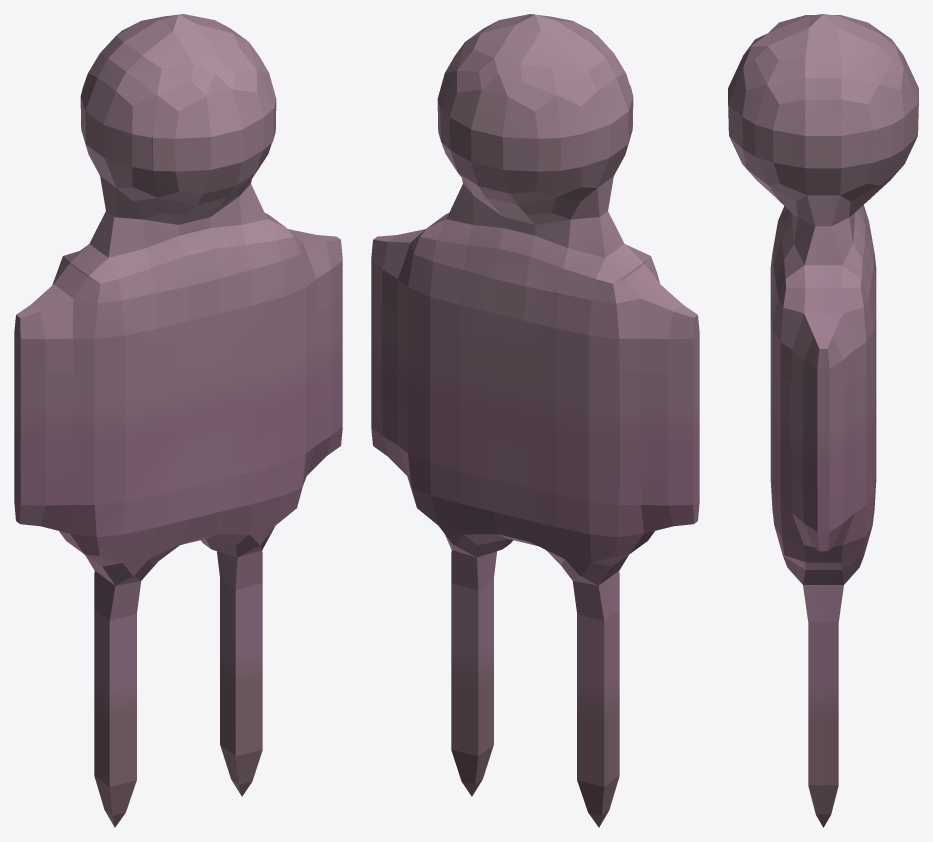
The model's file is ghoul.glb.
3 views of the same model, side by side, from view 1: azimuth 30°, elevation 25°; view 2: azimuth 150°, elevation 25°; view 3: azimuth 270°, elevation 25° (orthographic).
Visible parts, largest first — view 1: geometry_0; view 2: geometry_0; view 3: geometry_0.
Part boxes in pixels (left/top/right/bottom): geometry_0: left=14, top=14, right=342, bottom=827; geometry_0: left=371, top=14, right=699, bottom=827; geometry_0: left=728, top=14, right=918, bottom=827.
Bounding box in the file's own units: 0.4226 × 1 × 0.2207.
Materials: 1 (1 with a texture image).
